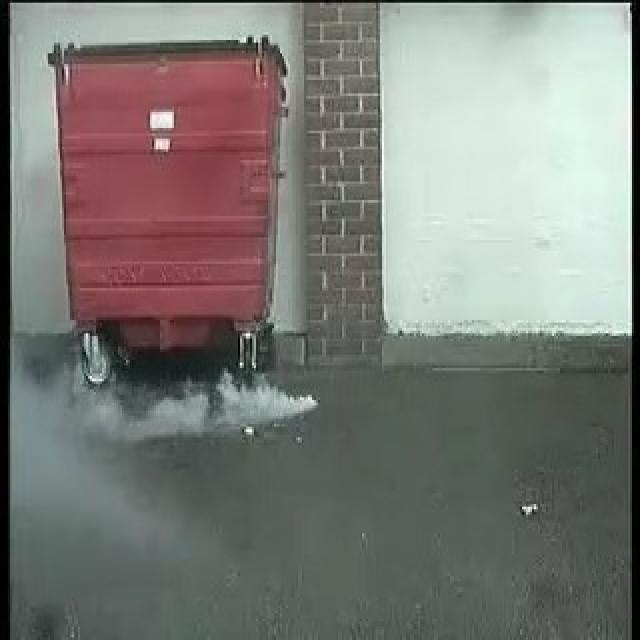smoke: (38, 372, 322, 457)
